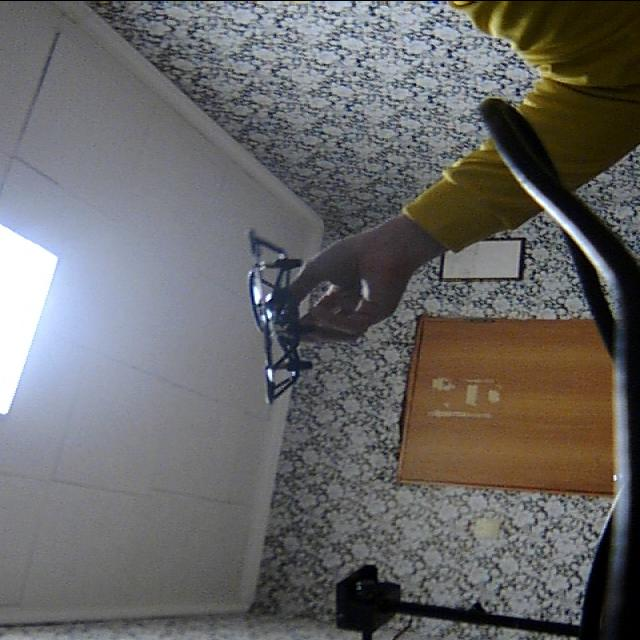drone: (226, 228, 320, 404)
